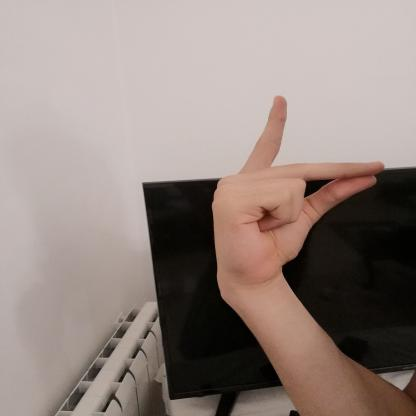TAA: (198, 87, 395, 292)
